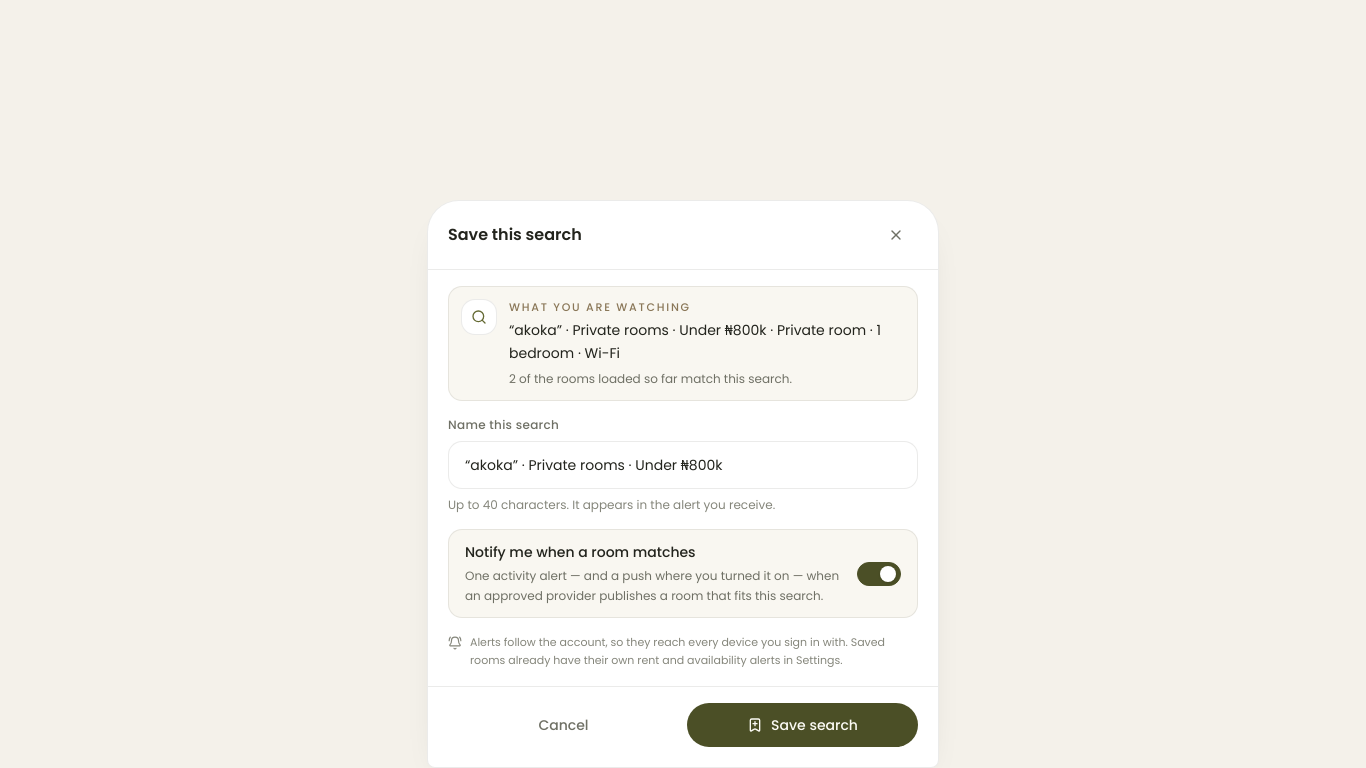
it: SaveSearchSheet › surfaces a refused save instead of closing
Click the button "Save search". click: {"x": 802, "y": 725}
box: [687,703,918,747]
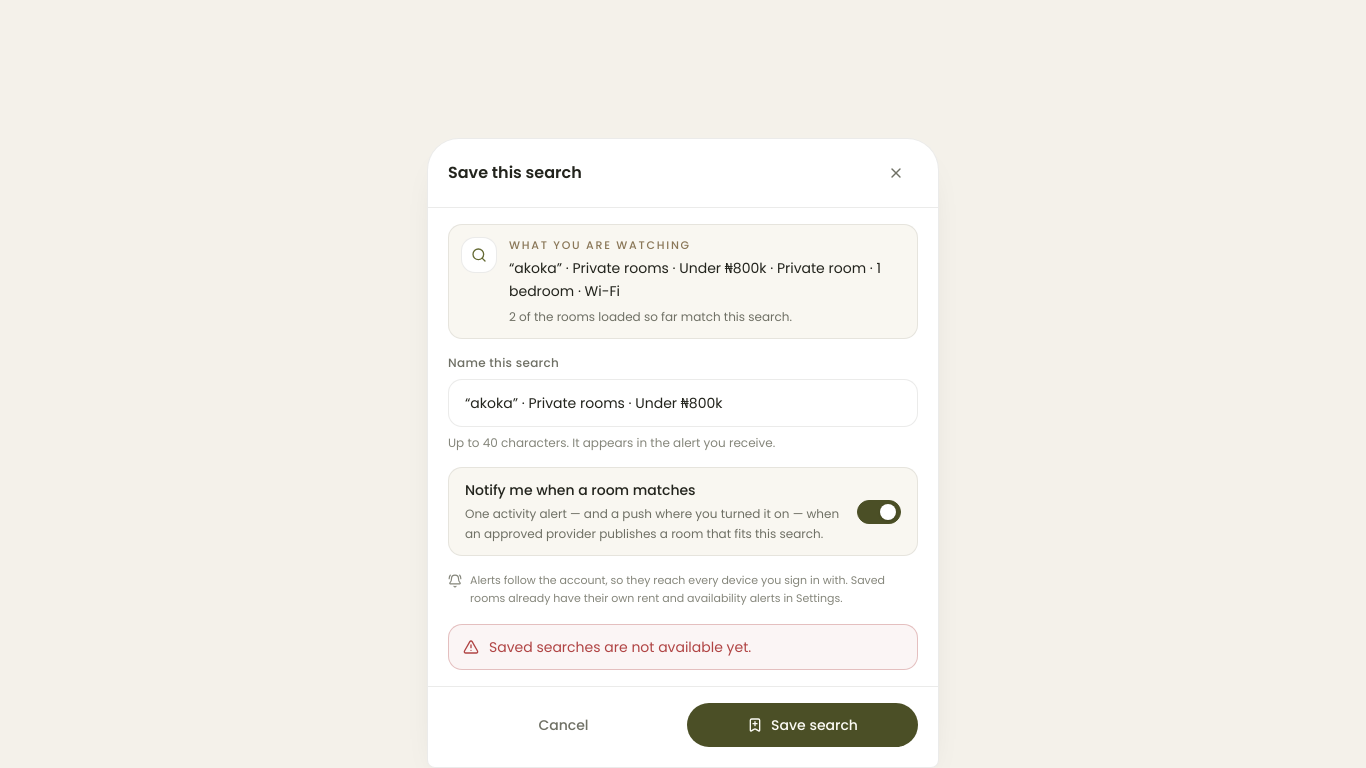
Check: the text "Saved searches are not available yet." is shown, box [489,637,751,657]
